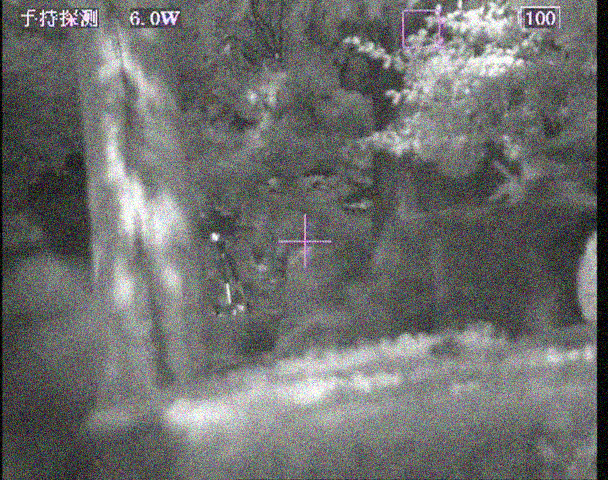my: (210, 230, 220, 241)
